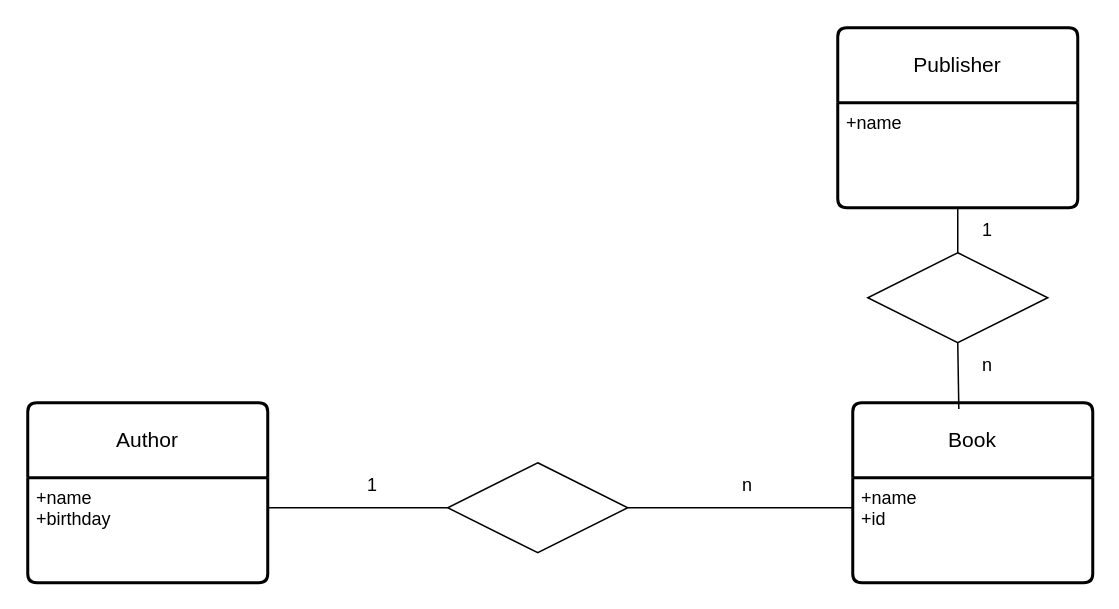
Image size: 1119x609. Some labels were removed from this diagram. The shapes that lost their labels are listed below. From the top down, each one's centre as x and y in pixels, then its label:
At (957,297): "publish".
At (537,507): "write".
